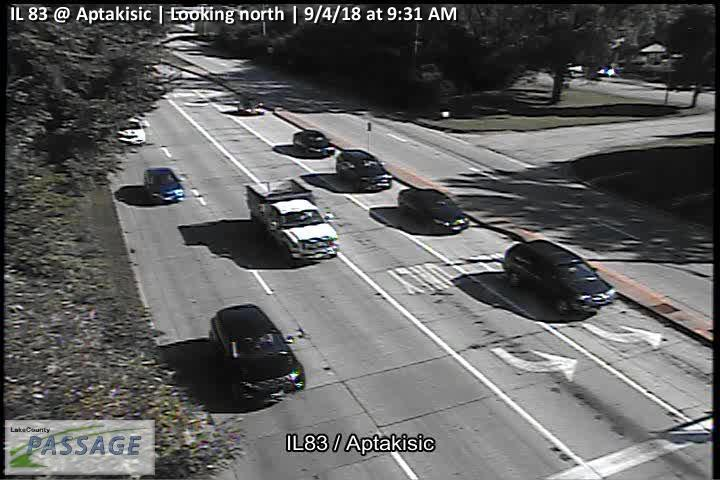SUV: (209, 304, 304, 408), (335, 150, 393, 192), (143, 168, 186, 205)
Sedan: (501, 239, 615, 315), (397, 188, 470, 235), (291, 130, 335, 158), (115, 116, 145, 144)
Truck: (247, 179, 340, 263)
